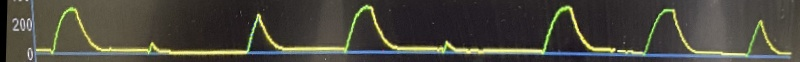normal_volume: (20, 0, 800, 62)
